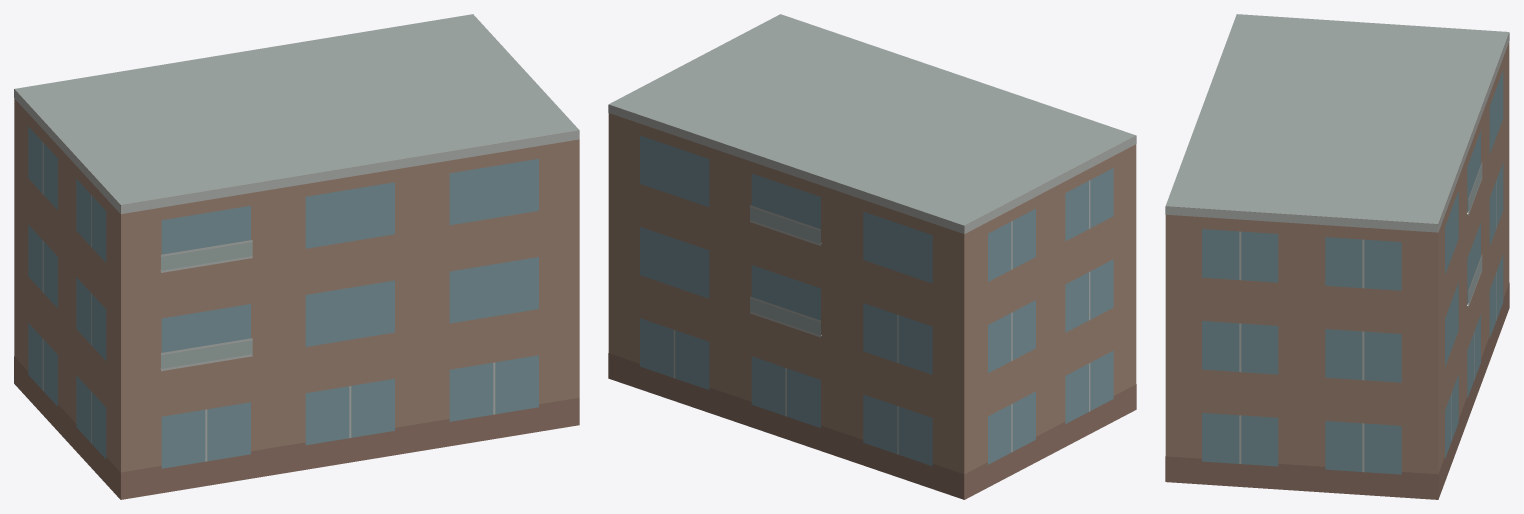
File: survey-upis-32721549.glb
3 views of the same model, side by side, from view 1: azimuth 30°, elevation 25°; view 2: azimuth 150°, elevation 25°; view 3: azimuth 270°, elevation 25° (orthographic). The views are drawn at different scales.
Parts seen in each view (by area): view 1: survey-upis-32721549.tmp; view 2: survey-upis-32721549.tmp; view 3: survey-upis-32721549.tmp.
Part boxes in pixels (left/top/right/bottom): survey-upis-32721549.tmp: left=14, top=14, right=579, bottom=499; survey-upis-32721549.tmp: left=608, top=14, right=1136, bottom=499; survey-upis-32721549.tmp: left=1165, top=14, right=1509, bottom=499.
Size of the model in its own units: 12.92 by 7.9 by 8.94.
